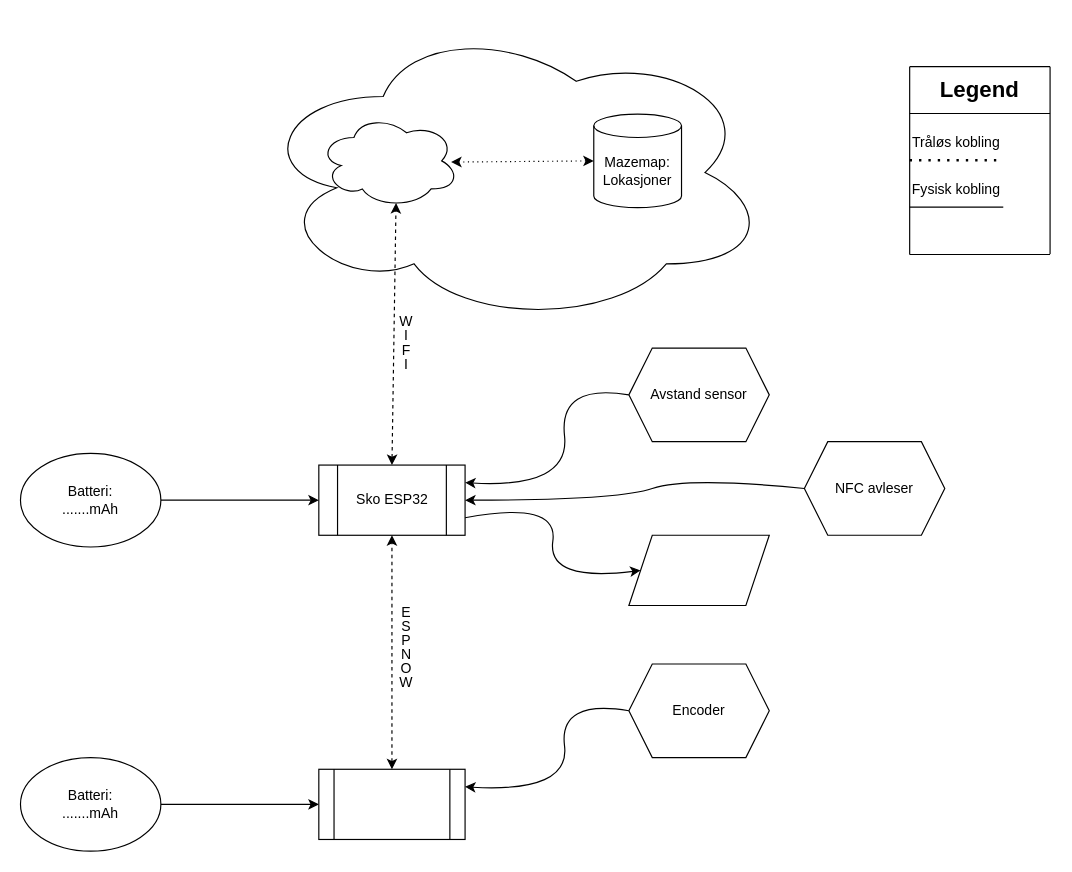
Image size: 1072x872. Some labels were removed from this diagram. Each missing label, with the centre of its shape:
Kontroller klokke ESP32: the point at 391,803
MQTT: the point at 388,160
Vibrasjons motor: the point at 698,569
